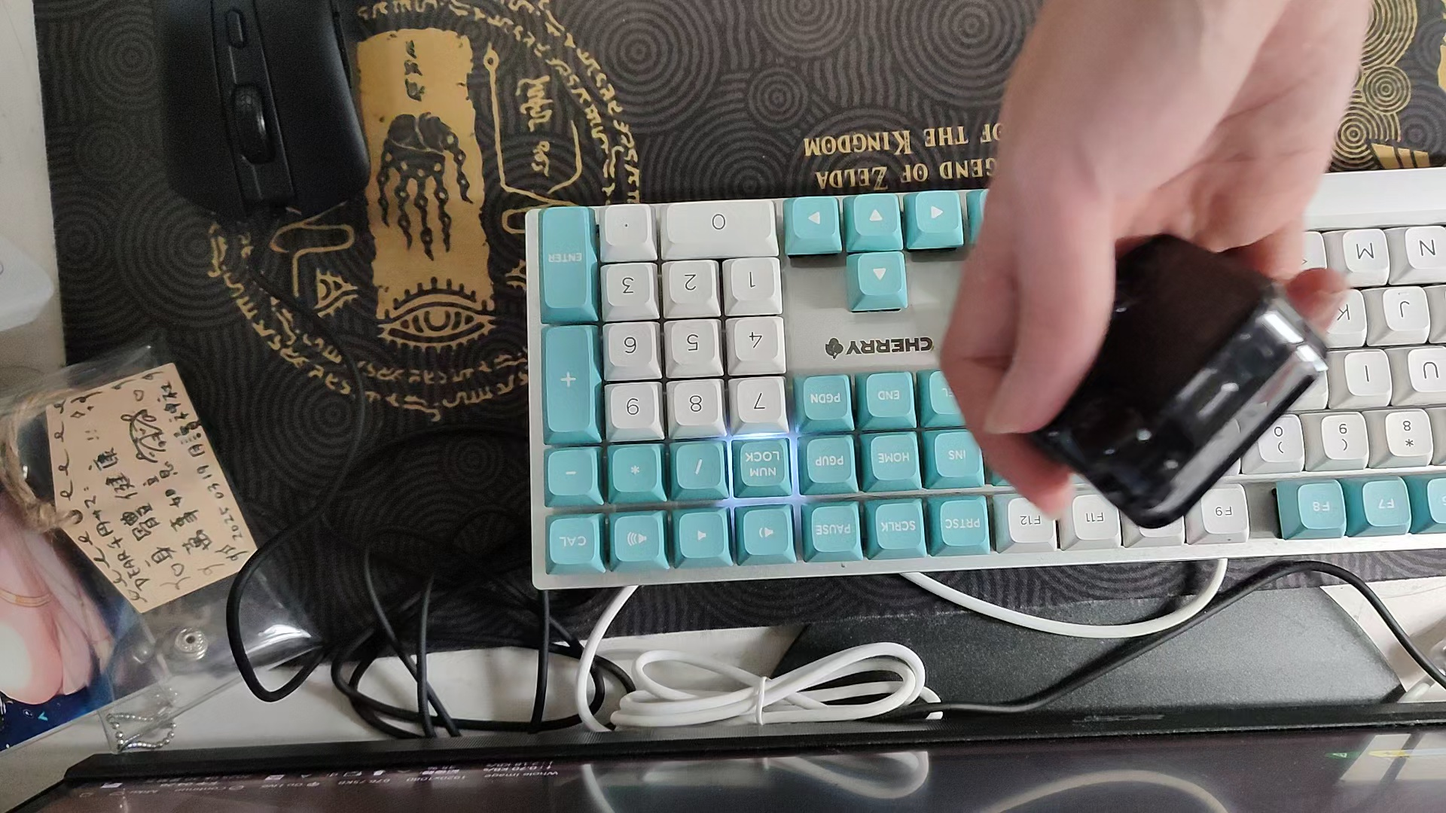Wireless_earphone: (1024, 230, 1329, 526)
